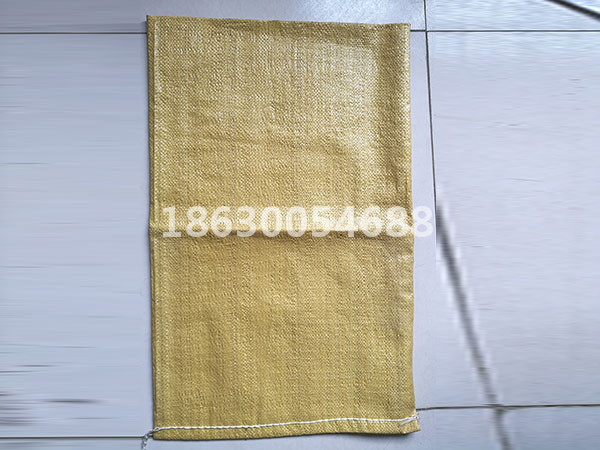Parcel: (142, 17, 418, 446)
